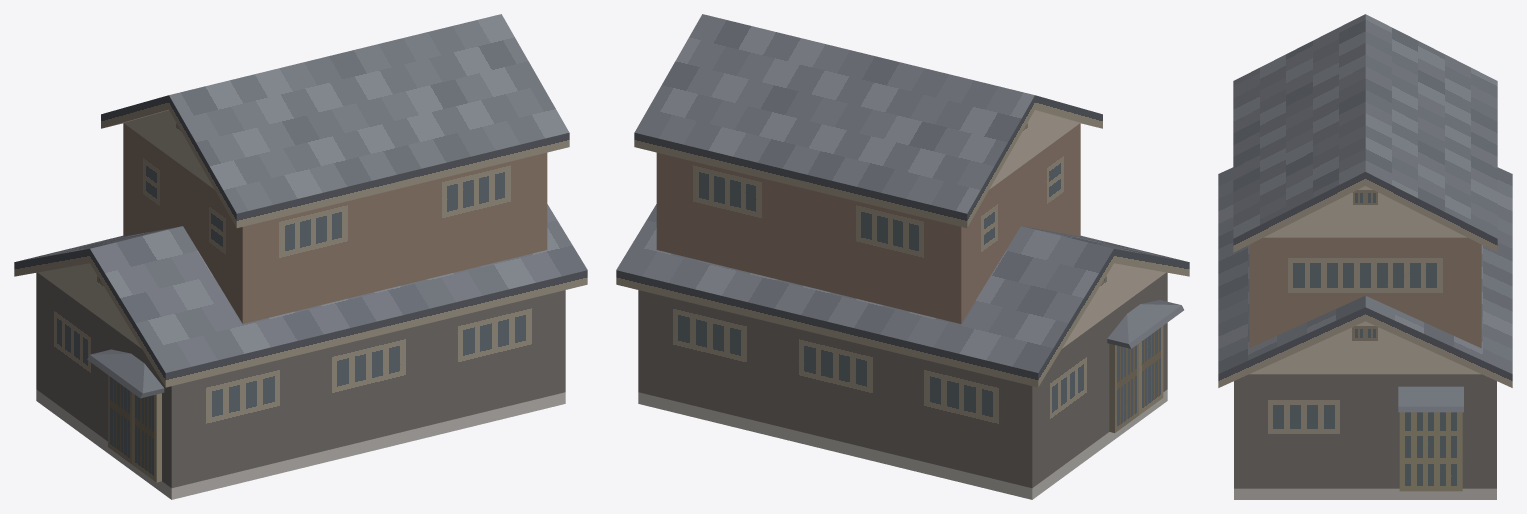
File: 0574_Kimura_Residence.glb
The picture shows the model from 3 angles, left to right: view 1: azimuth 30°, elevation 25°; view 2: azimuth 150°, elevation 25°; view 3: azimuth 270°, elevation 25°; orthographic projection. The views are drawn at different scales.
Visible parts, largest first — view 1: part_0; view 2: part_0; view 3: part_0.
Part boxes in pixels (x1,y1,x2,y2): part_0: (14, 14, 587, 499); part_0: (616, 14, 1189, 499); part_0: (1218, 14, 1512, 499).
Size of the model in its own units: 10.95 by 8.04 by 6.5.
1 material, 1 textured.
